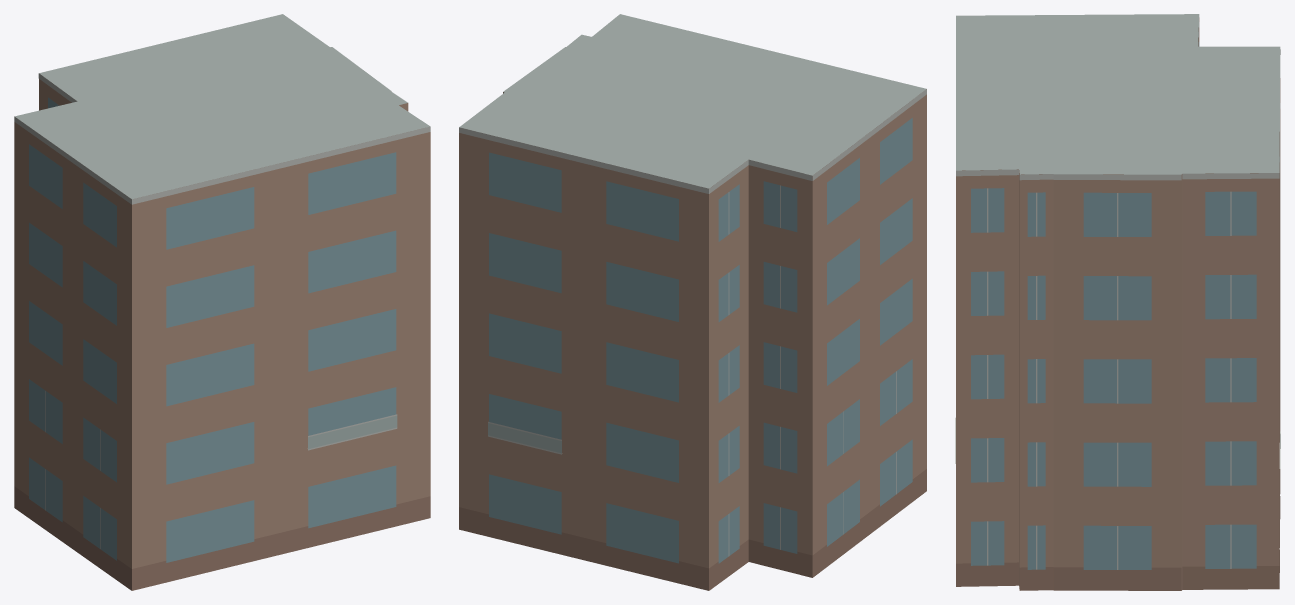
The model's file is survey-upis-32966308.glb.
3 views of the same model, side by side, from view 1: azimuth 30°, elevation 25°; view 2: azimuth 150°, elevation 25°; view 3: azimuth 270°, elevation 25° (orthographic). The views are drawn at different scales.
Visible parts, largest first — view 1: survey-upis-32966308.tmp; view 2: survey-upis-32966308.tmp; view 3: survey-upis-32966308.tmp.
Part boxes in pixels (x1,y1,x2,y2): survey-upis-32966308.tmp: [14, 14, 430, 590]; survey-upis-32966308.tmp: [459, 14, 926, 590]; survey-upis-32966308.tmp: [955, 14, 1280, 590].
Bounding box in the file's own units: 14.74 × 17.8 × 12.63.
